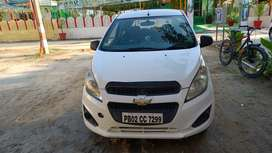PB02CC7299: (122, 112, 163, 123)
